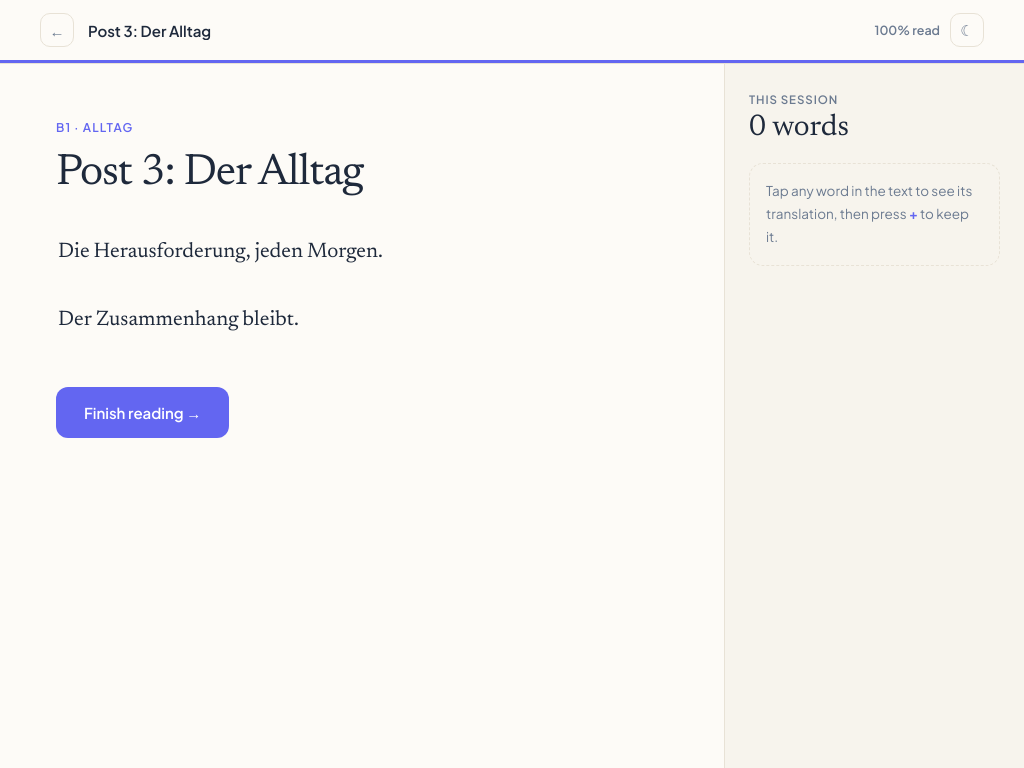
Test case: tapping a word › shows the translation the database gave for it
Click the text "Herausforderung,".
click(172, 252)  # box [94,242,251,263]
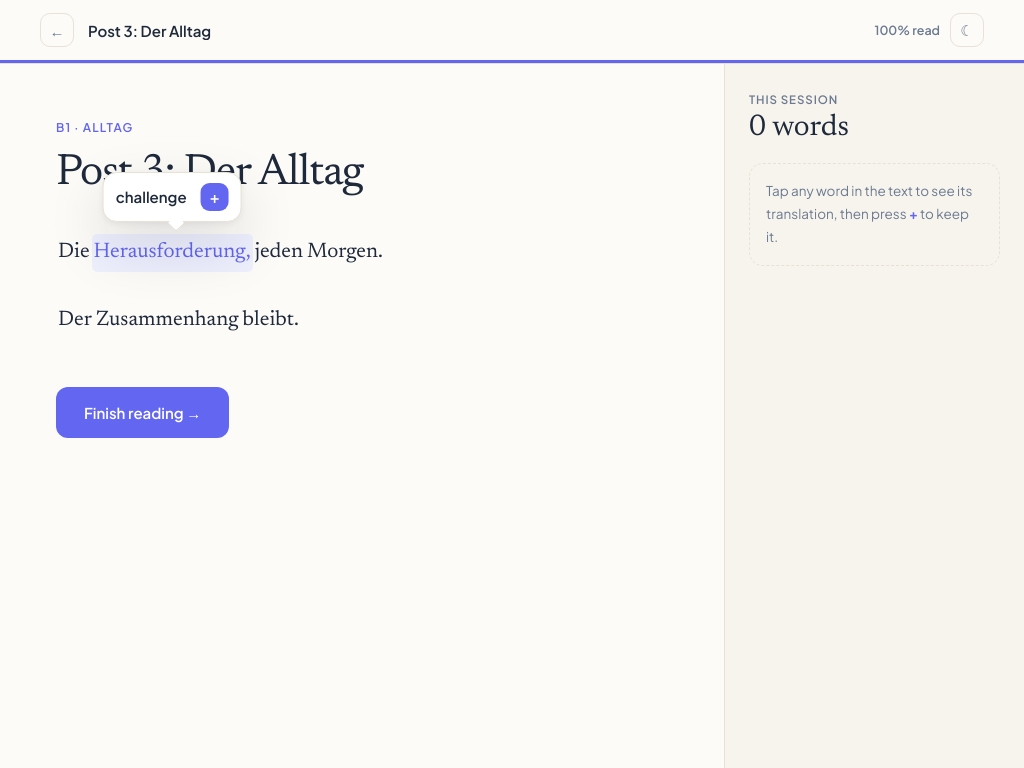
Expected: the text "challenge" is shown, [116,187,187,206]
